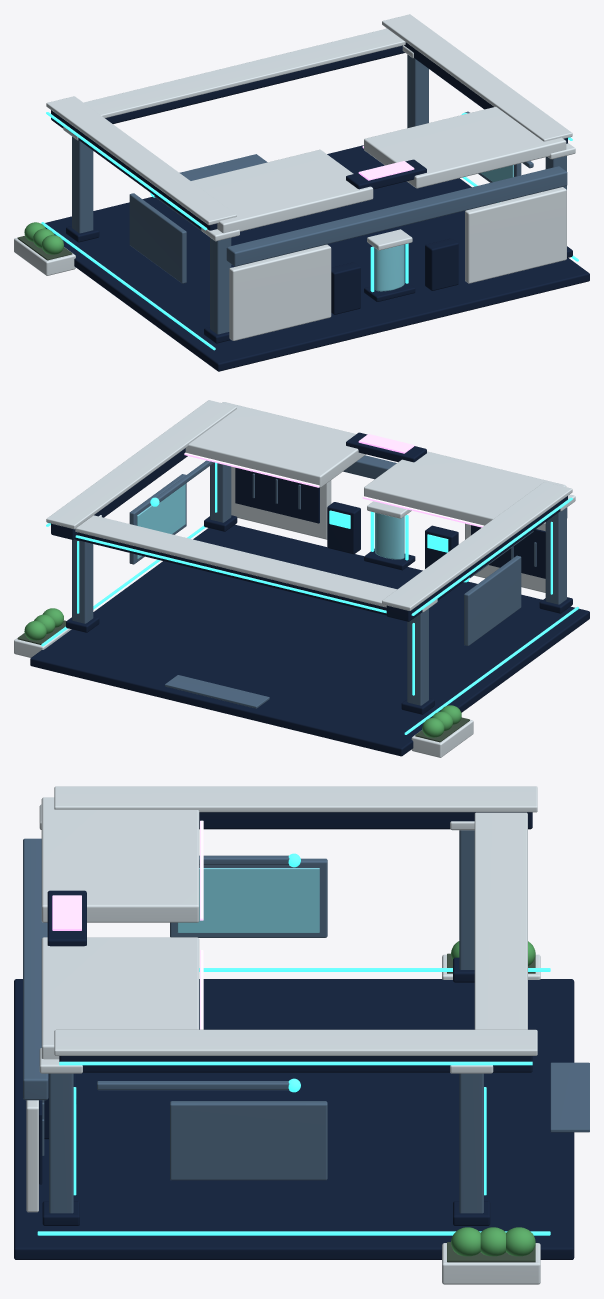
The model's file is LAB_Tier_2.fbx.
3 renders of one model, top to bottom at view 1: azimuth 30°, elevation 25°; view 2: azimuth 150°, elevation 25°; view 3: azimuth 270°, elevation 25°, orthographic. The views are drawn at different scales.
Parts seen in each view (by area): view 1: LAB_Floor_Fascia.001, LAB_Roof_Back_R.001, LAB_Roof_Back_L.001, LAB_Wall_Straight_L.001, LAB_Wall_Straight_R.001, LAB_Back_Header.001, LAB_Entrance_HeaderCap.001, LAB_Roof_BeamCap_L.001, LAB_Roof_BeamCap_R.001, LAB_Window_Frame_L.001, LAB_Entrance_Header.001, LAB_Pillar_L_-9.001 (+15 smaller); view 2: LAB_Floor_Fascia.001, LAB_Roof_Back_R.001, LAB_Roof_Back_L.001, LAB_Entrance_HeaderCap.001, LAB_Roof_BeamCap_L.001, LAB_Roof_BeamCap_R.001, LAB_Window_Frame_L.001, LAB_Wall_Inset_R.001, LAB_Wall_Straight_R.001, LAB_Entrance_Header.001, LAB_Pillar_L_-9.001, LAB_Pillar_L_11.001 (+21 smaller); view 3: LAB_Floor_Fascia.001, LAB_Roof_Back_L.001, LAB_Roof_Back_R.001, LAB_Roof_BeamCap_R.001, LAB_Window_Frame_R.001, LAB_Roof_BeamCap_L.001, LAB_Entrance_HeaderCap.001, LAB_GlassPanel_L.001, LAB_Roof_Beam_R.001, LAB_Back_Header.001, LAB_Roof_Beam_L.001, LAB_Pillar_R_-9.001 (+19 smaller).
Part boxes in pixels (box(x1,y1,x2,y2)): LAB_Floor_Fascia.001: box(45, 145, 589, 371); LAB_Roof_Back_R.001: box(364, 106, 566, 188); LAB_Roof_Back_L.001: box(191, 149, 373, 233); LAB_Wall_Straight_L.001: box(229, 244, 331, 340); LAB_Wall_Straight_R.001: box(465, 187, 566, 283); LAB_Back_Header.001: box(226, 166, 567, 266); LAB_Entrance_HeaderCap.001: box(84, 28, 405, 118); LAB_Roof_BeamCap_L.001: box(46, 96, 236, 225); LAB_Roof_BeamCap_R.001: box(382, 14, 572, 141); LAB_Window_Frame_L.001: box(129, 193, 186, 283); LAB_Entrance_Header.001: box(105, 45, 404, 123); LAB_Pillar_L_-9.001: box(72, 136, 93, 233); LAB_Floor_Fascia.001: box(30, 524, 589, 756); LAB_Roof_Back_R.001: box(185, 402, 365, 487); LAB_Roof_Back_L.001: box(364, 451, 566, 525); LAB_Entrance_HeaderCap.001: box(75, 515, 396, 607); LAB_Roof_BeamCap_L.001: box(382, 482, 572, 610); LAB_Roof_BeamCap_R.001: box(46, 400, 236, 529); LAB_Window_Frame_L.001: box(464, 555, 521, 645); LAB_Wall_Inset_R.001: box(235, 467, 319, 523); LAB_Wall_Straight_R.001: box(231, 466, 331, 539); LAB_Entrance_Header.001: box(75, 532, 386, 615); LAB_Pillar_L_-9.001: box(407, 609, 428, 705); LAB_Pillar_L_11.001: box(545, 508, 566, 604); LAB_Floor_Fascia.001: box(14, 979, 574, 1259); LAB_Roof_Back_L.001: box(41, 797, 199, 922); LAB_Roof_Back_R.001: box(41, 937, 199, 1059); LAB_Roof_BeamCap_R.001: box(54, 1029, 537, 1055); LAB_Window_Frame_R.001: box(170, 1101, 327, 1180); LAB_Roof_BeamCap_L.001: box(54, 786, 537, 812); LAB_Entrance_HeaderCap.001: box(474, 812, 527, 1029); LAB_GlassPanel_L.001: box(177, 868, 319, 932); LAB_Roof_Beam_R.001: box(59, 1056, 532, 1072); LAB_Back_Header.001: box(23, 838, 48, 1100); LAB_Roof_Beam_L.001: box(199, 812, 532, 829); LAB_Pillar_R_-9.001: box(459, 1073, 483, 1213).
Bounding box in the file's own units: 3720 × 1223 × 2920.
